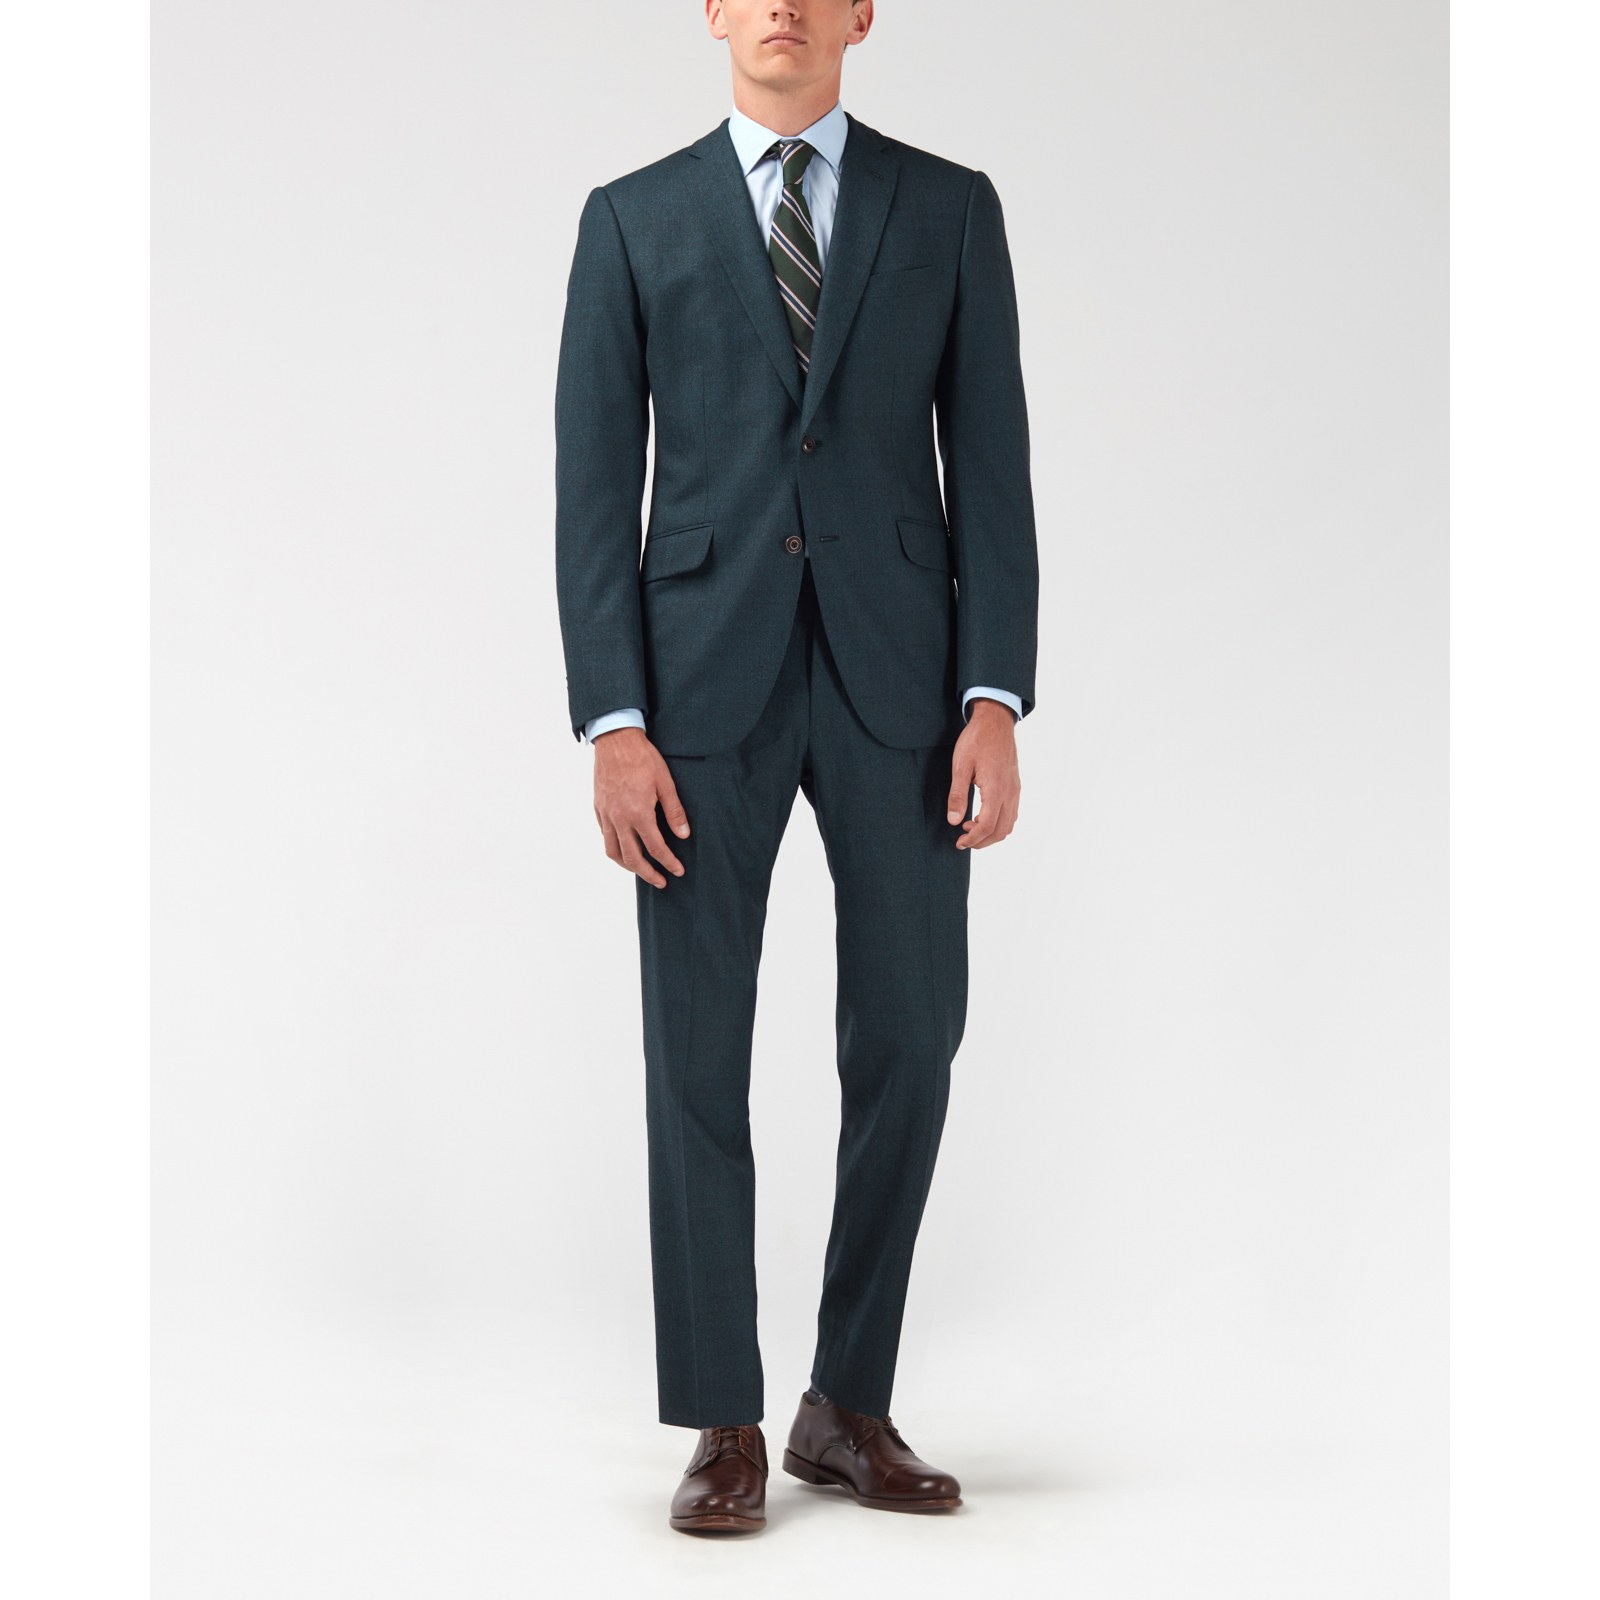F_M_suit jacket: (522, 127, 1102, 736)
F_dress pants: (589, 608, 983, 1390)
F_dress shoes: (774, 1385, 985, 1530), (648, 1412, 785, 1534)
F_tie: (756, 133, 834, 356)
